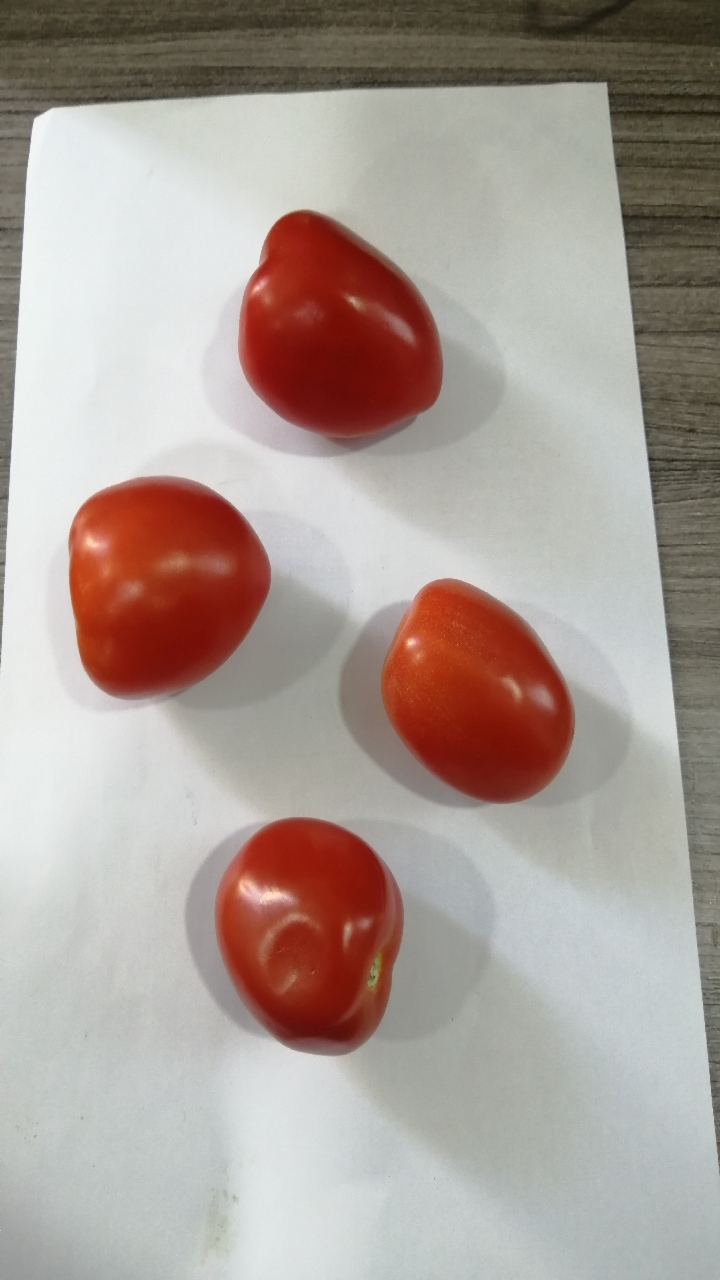tomateRojo: (355, 560, 618, 845), (186, 802, 434, 1083), (215, 191, 463, 449), (60, 462, 291, 720)
